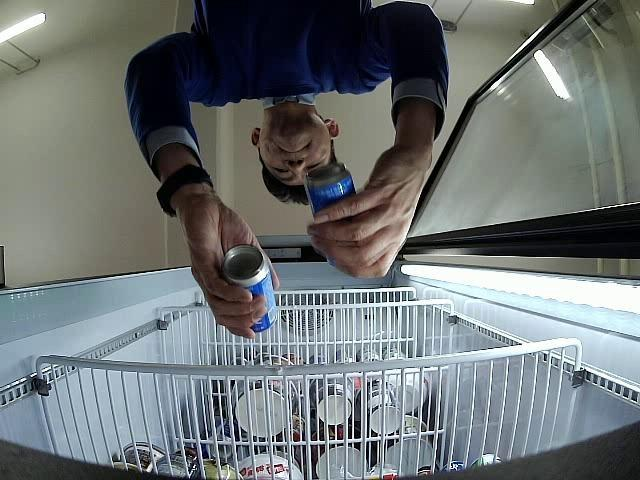15_letsbe: (306, 162, 356, 266), (221, 244, 277, 332)
